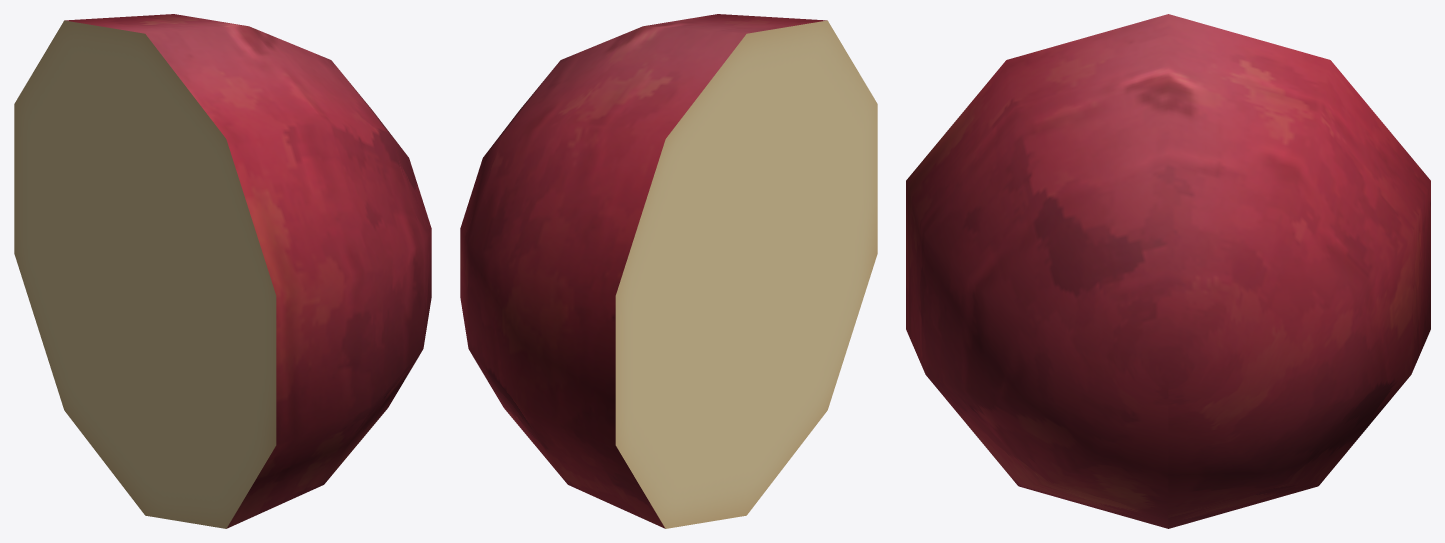
File: Potato_Red_Half.fbx
The picture shows the model from 3 angles, left to right: view 1: azimuth 30°, elevation 25°; view 2: azimuth 150°, elevation 25°; view 3: azimuth 270°, elevation 25°; orthographic projection.
Parts seen in each view (by area): view 1: Potato_Red_Half; view 2: Potato_Red_Half; view 3: Potato_Red_Half.
Boxes of the visible parts, left/top/right/bottom form: Potato_Red_Half: left=14, top=14, right=431, bottom=528; Potato_Red_Half: left=460, top=14, right=877, bottom=528; Potato_Red_Half: left=906, top=14, right=1430, bottom=528.
Size of the model in its own units: 18.67 by 34.34 by 33.87.
